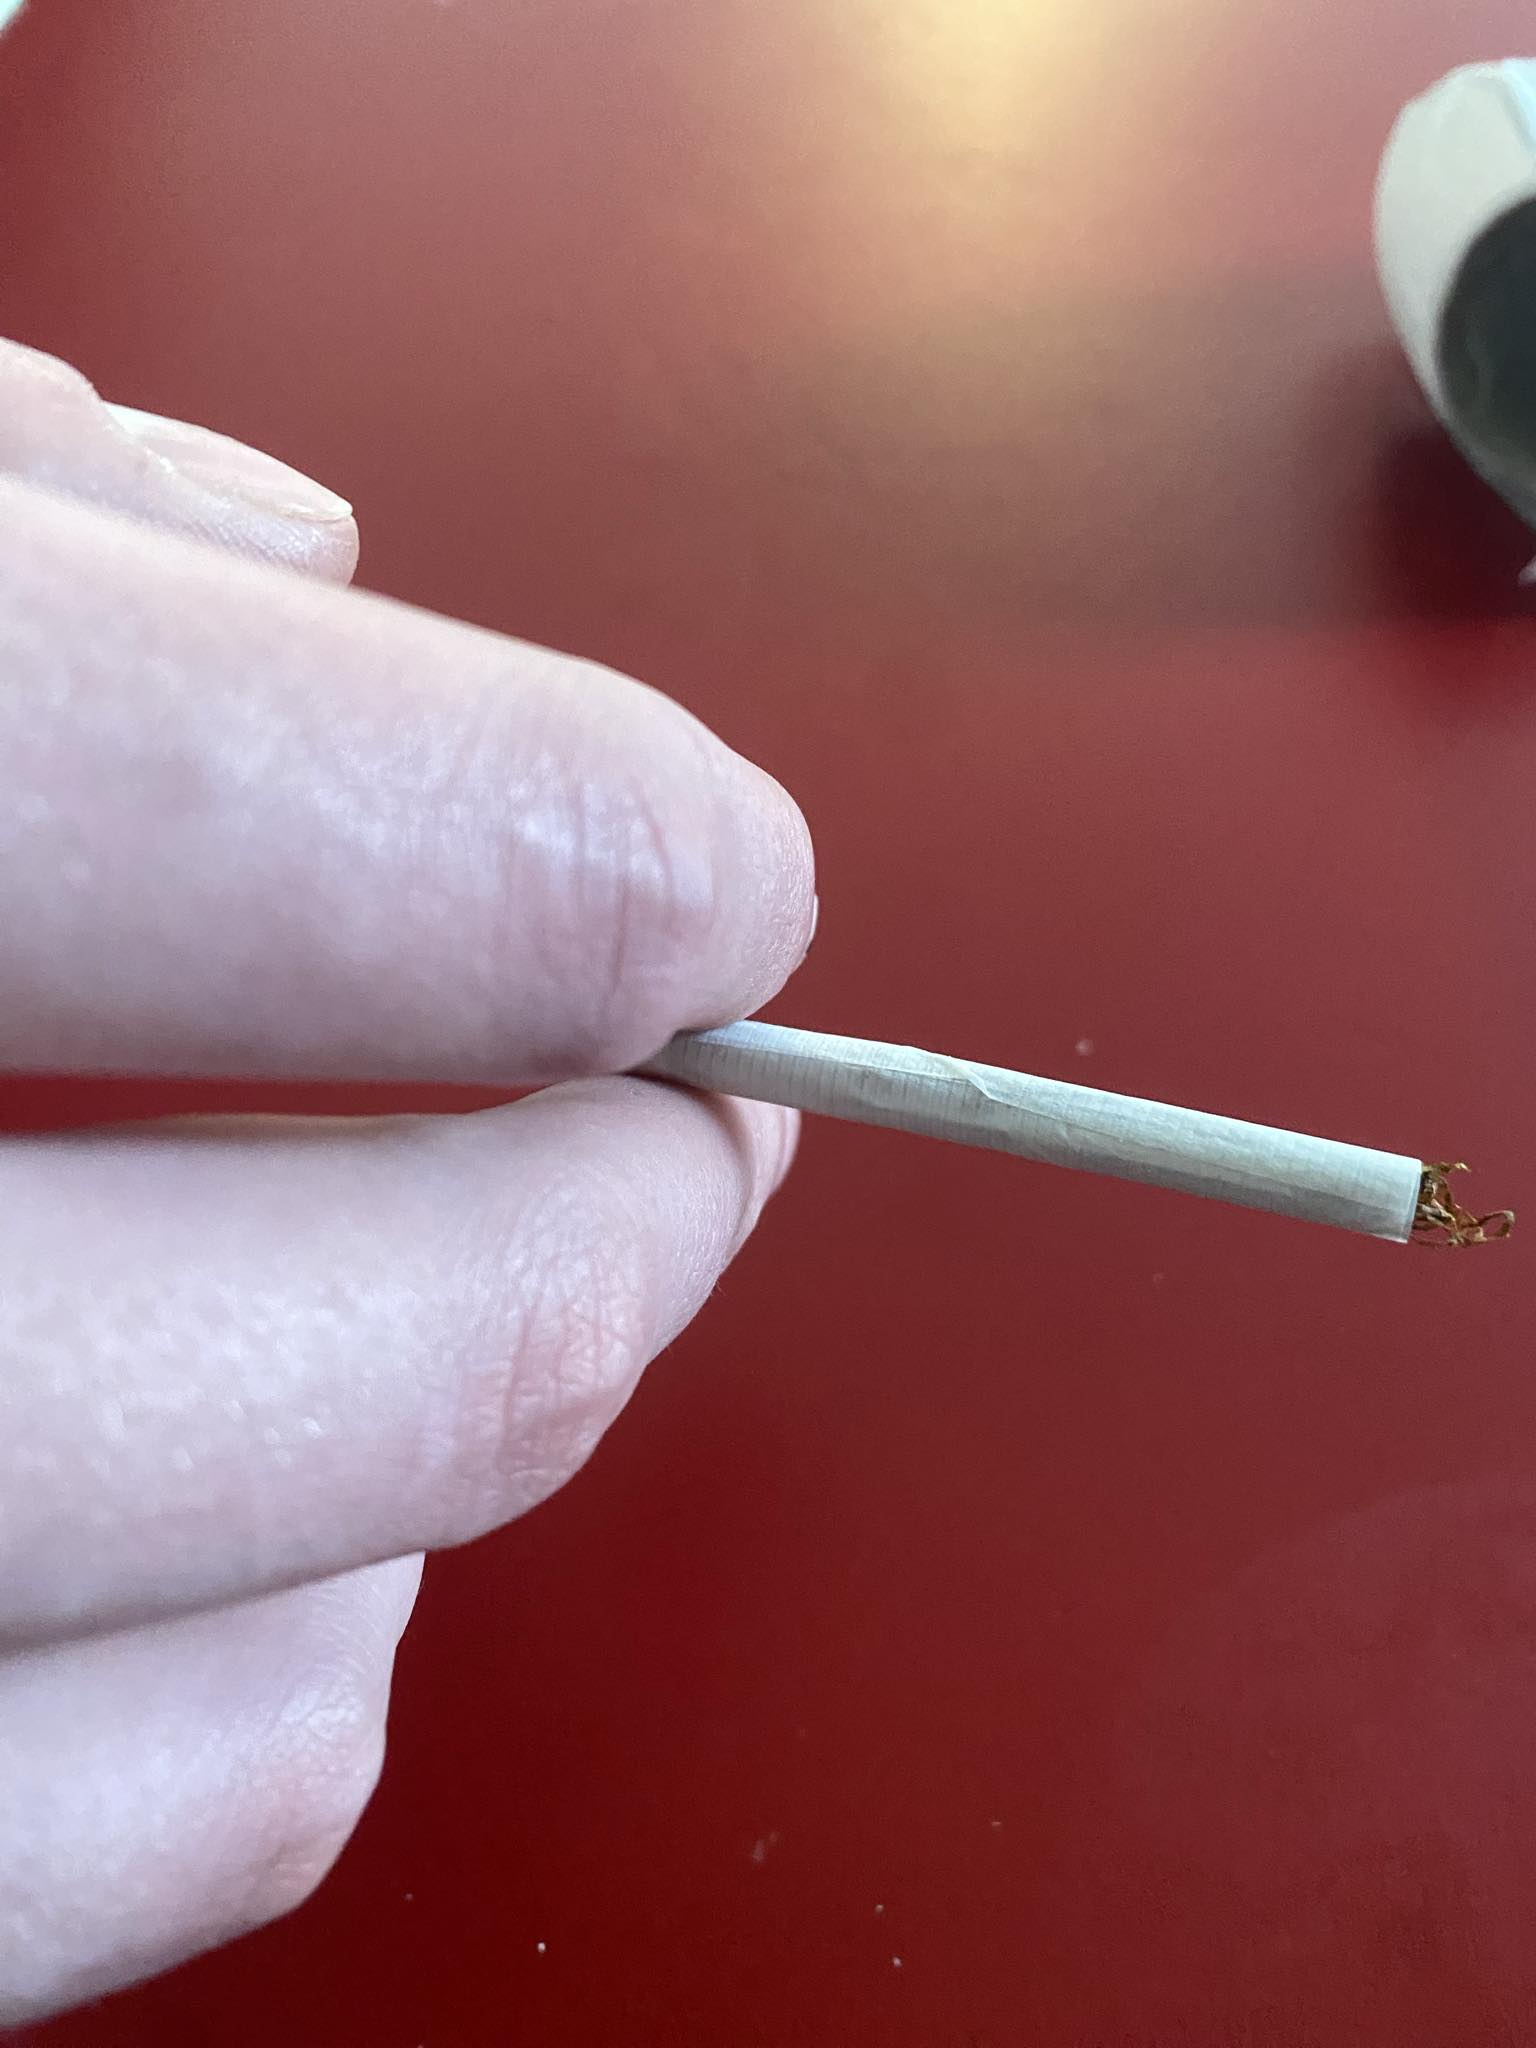Cigarette: (673, 1019, 1515, 1247)
